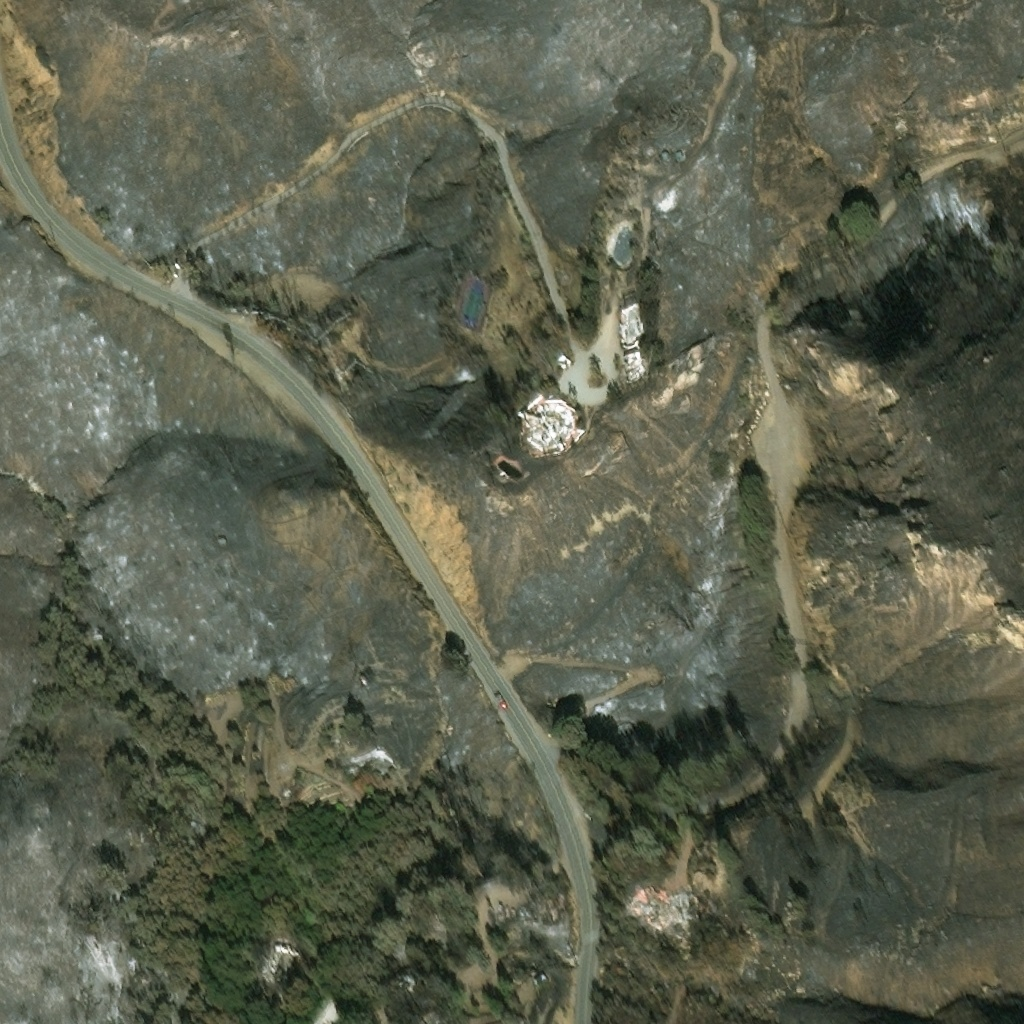3 destroyed: (621, 875, 702, 929), (518, 400, 573, 450), (618, 298, 640, 346), (272, 945, 297, 978), (620, 349, 642, 384)
4 un-classified: (378, 958, 418, 989)
